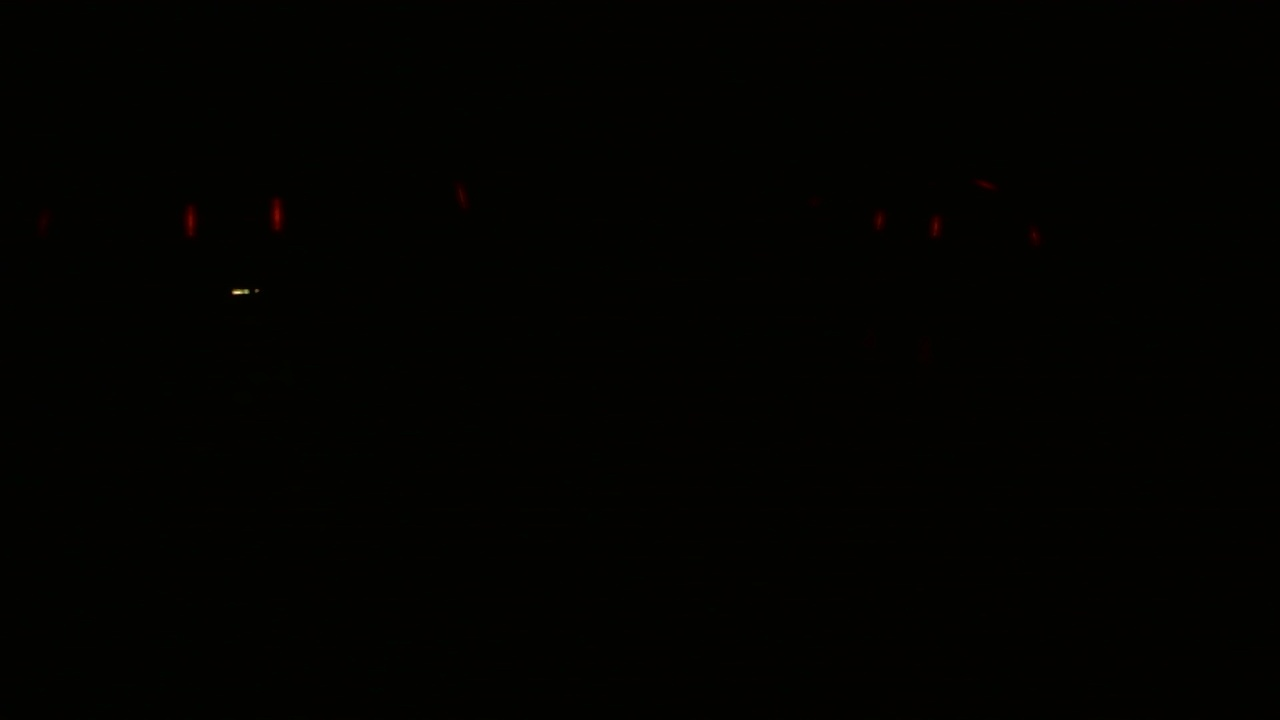pair1: (178, 196, 285, 232), (871, 209, 942, 238)
